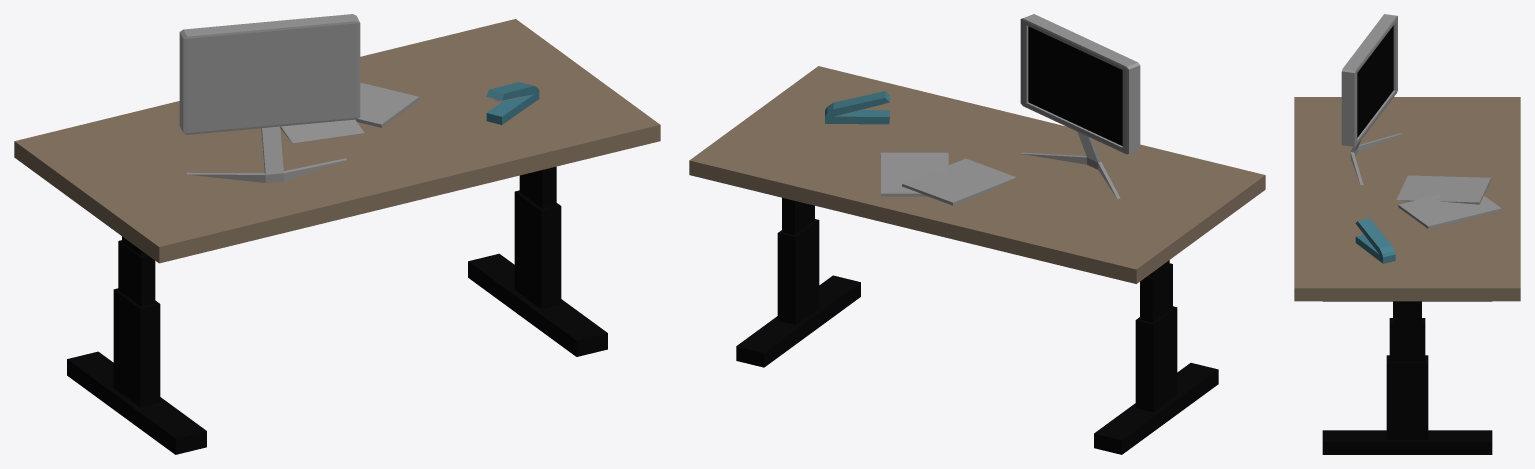
File: StandingDeskLow.glb
3 views of the same model, side by side, from view 1: azimuth 30°, elevation 25°; view 2: azimuth 150°, elevation 25°; view 3: azimuth 270°, elevation 25° (orthographic). The views are drawn at different scales.
Parts seen in each view (by area): view 1: StandingDesk-col; view 2: StandingDesk-col; view 3: StandingDesk-col.
Part boxes in pixels (x1,y1,x2,y2): StandingDesk-col: (14,14,660,454); StandingDesk-col: (689,14,1265,454); StandingDesk-col: (1294,14,1520,454).
Bounding box in the file's own units: 6.4 × 4.6 × 3.2.
1 material, 1 textured.
